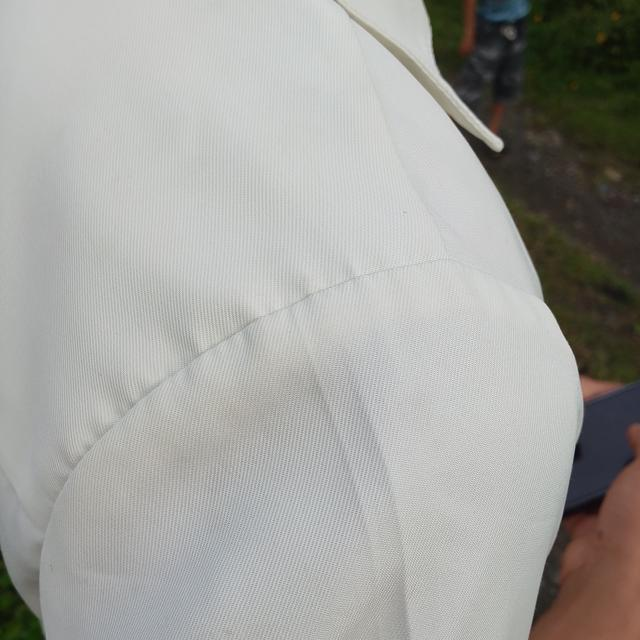education_male_uniform: (0, 1, 578, 625)
